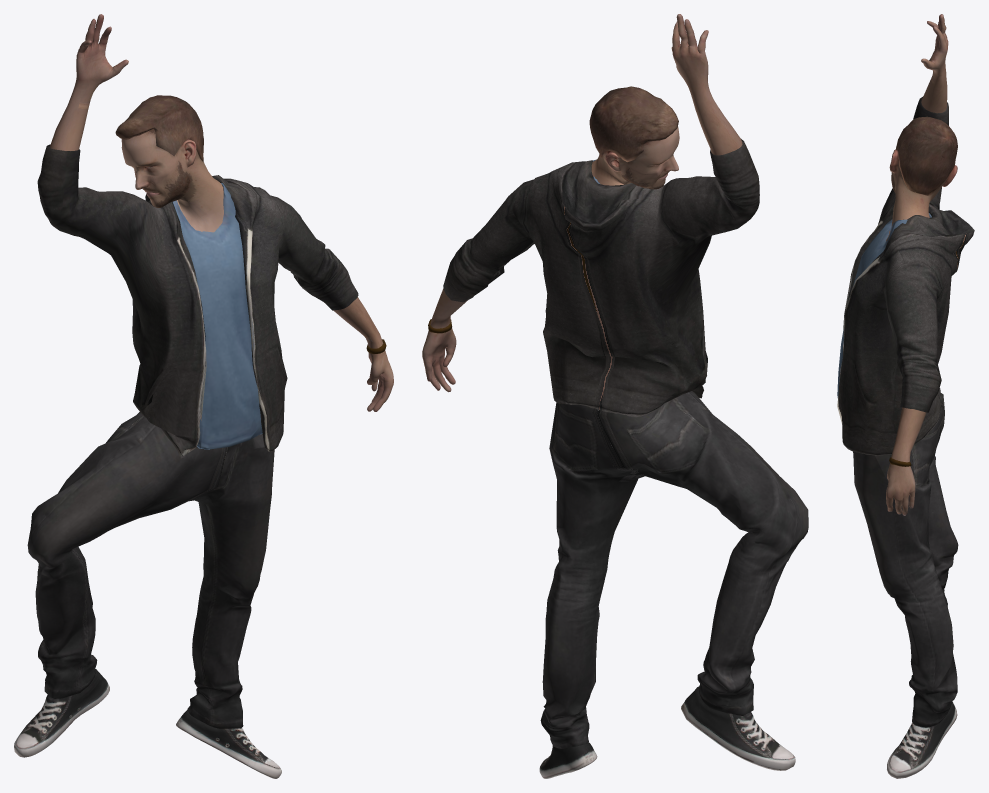
The model's file is BOdy_man.fbx.
The picture shows the model from 3 angles, left to right: view 1: azimuth 30°, elevation 25°; view 2: azimuth 150°, elevation 25°; view 3: azimuth 270°, elevation 25°; orthographic projection. The views are drawn at different scales.
Visible parts, largest first — view 1: Body; view 2: Body; view 3: Body.
Part boxes in pixels (bbox=[...]): Body: bbox=[14, 14, 393, 778]; Body: bbox=[422, 14, 808, 778]; Body: bbox=[837, 14, 974, 778].
Bounding box in the file's own units: 101 × 208 × 37.18.
1 material, 1 textured.
